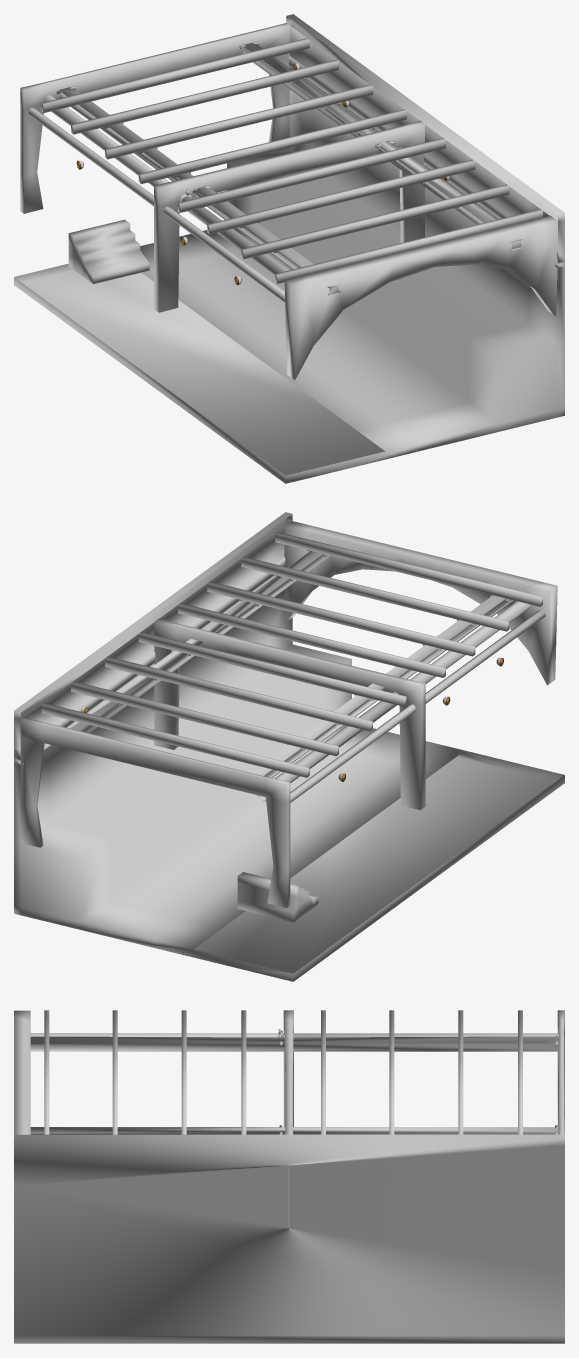
The model's file is xiugai1.fbx.
The picture shows the model from 3 angles, top to bottom: view 1: azimuth 30°, elevation 25°; view 2: azimuth 150°, elevation 25°; view 3: azimuth 270°, elevation 25°; orthographic projection.
Visible parts, largest first — view 1: sectione_opposite_lowpoly, sectione_opposite_lowpoly.011, sectione_opposite_lowpoly.001, sectione_opposite_lowpoly.002, sectione_opposite_lowpoly.037, sectione_opposite_lowpoly.047, sectione_opposite_lowpoly.028, sectione_opposite_lowpoly.005, sectione_opposite_lowpoly.004, sectione_opposite_lowpoly.007, sectione_opposite_lowpoly.010, sectione_opposite_lowpoly.006 (+6 smaller); view 2: sectione_opposite_lowpoly, sectione_opposite_lowpoly.002, sectione_opposite_lowpoly.001, sectione_opposite_lowpoly.011, sectione_opposite_lowpoly.047, sectione_opposite_lowpoly.028, sectione_opposite_lowpoly.005, sectione_opposite_lowpoly.004, sectione_opposite_lowpoly.007, sectione_opposite_lowpoly.010, sectione_opposite_lowpoly.003, sectione_opposite_lowpoly.006 (+6 smaller); view 3: sectione_opposite_lowpoly, sectione_opposite_lowpoly.047, sectione_opposite_lowpoly.028, sectione_opposite_lowpoly.011, sectione_opposite_lowpoly.001, sectione_opposite_lowpoly.048, sectione_opposite_lowpoly.049, sectione_opposite_lowpoly.002, sectione_opposite_lowpoly.003, sectione_opposite_lowpoly.004, sectione_opposite_lowpoly.005, sectione_opposite_lowpoly.006 (+5 smaller).
Boxes of the visible parts, box(x1,y1,x2,y2) form: sectione_opposite_lowpoly: box(14, 14, 564, 483); sectione_opposite_lowpoly.011: box(284, 215, 557, 379); sectione_opposite_lowpoly.001: box(154, 120, 424, 312); sectione_opposite_lowpoly.002: box(20, 23, 289, 213); sectione_opposite_lowpoly.037: box(68, 219, 149, 284); sectione_opposite_lowpoly.047: box(59, 87, 340, 295); sectione_opposite_lowpoly.028: box(242, 42, 522, 250); sectione_opposite_lowpoly.005: box(207, 159, 475, 234); sectione_opposite_lowpoly.004: box(241, 184, 509, 259); sectione_opposite_lowpoly.007: box(138, 109, 406, 184); sectione_opposite_lowpoly.010: box(41, 38, 309, 112); sectione_opposite_lowpoly.006: box(178, 138, 445, 212); sectione_opposite_lowpoly: box(14, 512, 564, 981); sectione_opposite_lowpoly.002: box(20, 717, 290, 907); sectione_opposite_lowpoly.001: box(154, 618, 425, 810); sectione_opposite_lowpoly.011: box(284, 521, 557, 685); sectione_opposite_lowpoly.047: box(251, 595, 513, 777); sectione_opposite_lowpoly.028: box(68, 551, 329, 733); sectione_opposite_lowpoly.005: box(207, 581, 475, 656); sectione_opposite_lowpoly.004: box(241, 556, 509, 631); sectione_opposite_lowpoly.007: box(138, 632, 406, 706); sectione_opposite_lowpoly.010: box(41, 703, 309, 777); sectione_opposite_lowpoly.003: box(275, 532, 542, 606); sectione_opposite_lowpoly.006: box(178, 603, 445, 677); sectione_opposite_lowpoly: box(14, 1134, 564, 1343); sectione_opposite_lowpoly.047: box(30, 1036, 558, 1051); sectione_opposite_lowpoly.028: box(30, 1127, 558, 1134); sectione_opposite_lowpoly.011: box(14, 1010, 30, 1134); sectione_opposite_lowpoly.001: box(283, 1010, 293, 1134); sectione_opposite_lowpoly.048: box(282, 1033, 558, 1037); sectione_opposite_lowpoly.049: box(30, 1033, 278, 1037); sectione_opposite_lowpoly.002: box(557, 1010, 564, 1134); sectione_opposite_lowpoly.003: box(44, 1010, 49, 1134); sectione_opposite_lowpoly.004: box(112, 1010, 117, 1134); sectione_opposite_lowpoly.005: box(181, 1010, 186, 1134); sectione_opposite_lowpoly.006: box(241, 1010, 246, 1134).
Size of the model in its own units: 29538 by 20495 by 49730.
